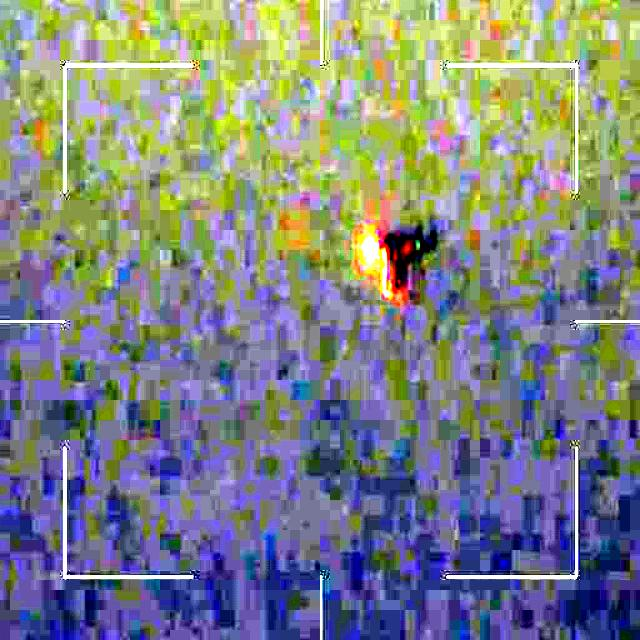bird: (355, 218, 446, 299)
